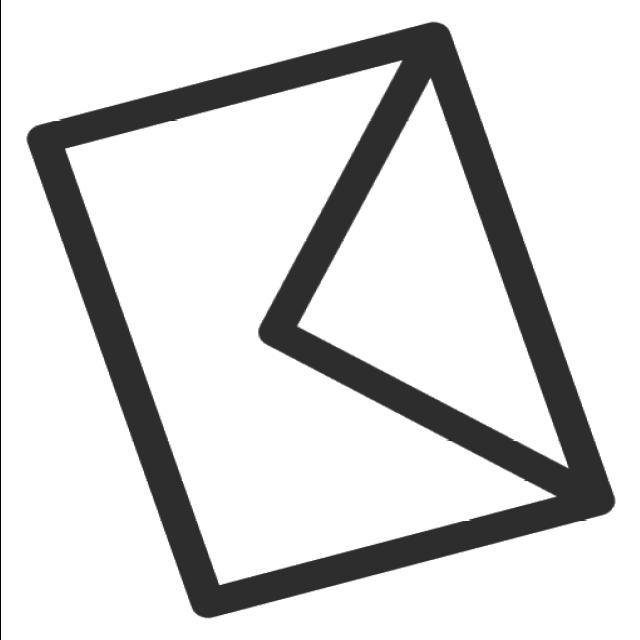letter: (12, 15, 622, 626)
